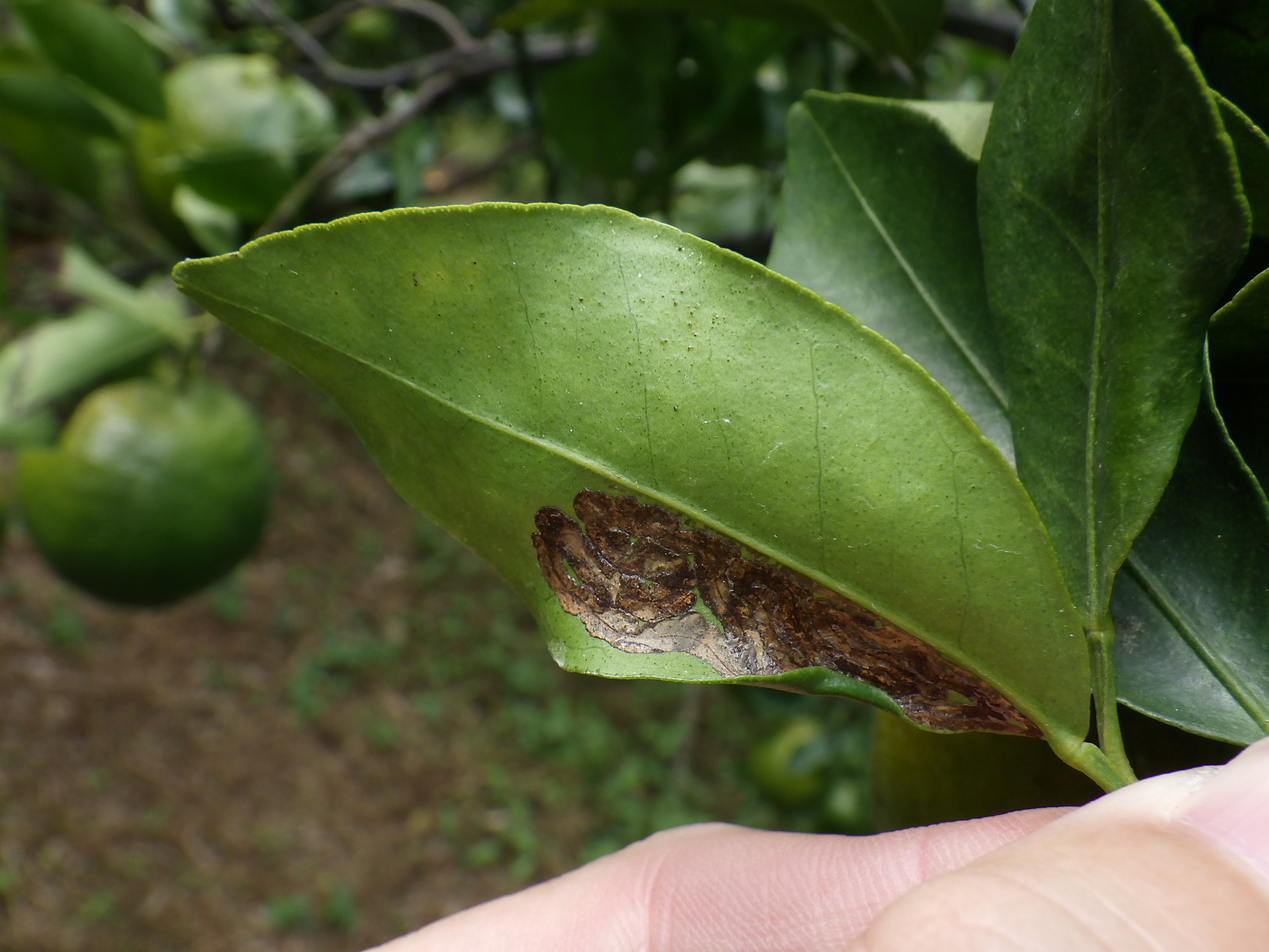Citrus_Leaf_Miner: (532, 490, 1039, 735)
